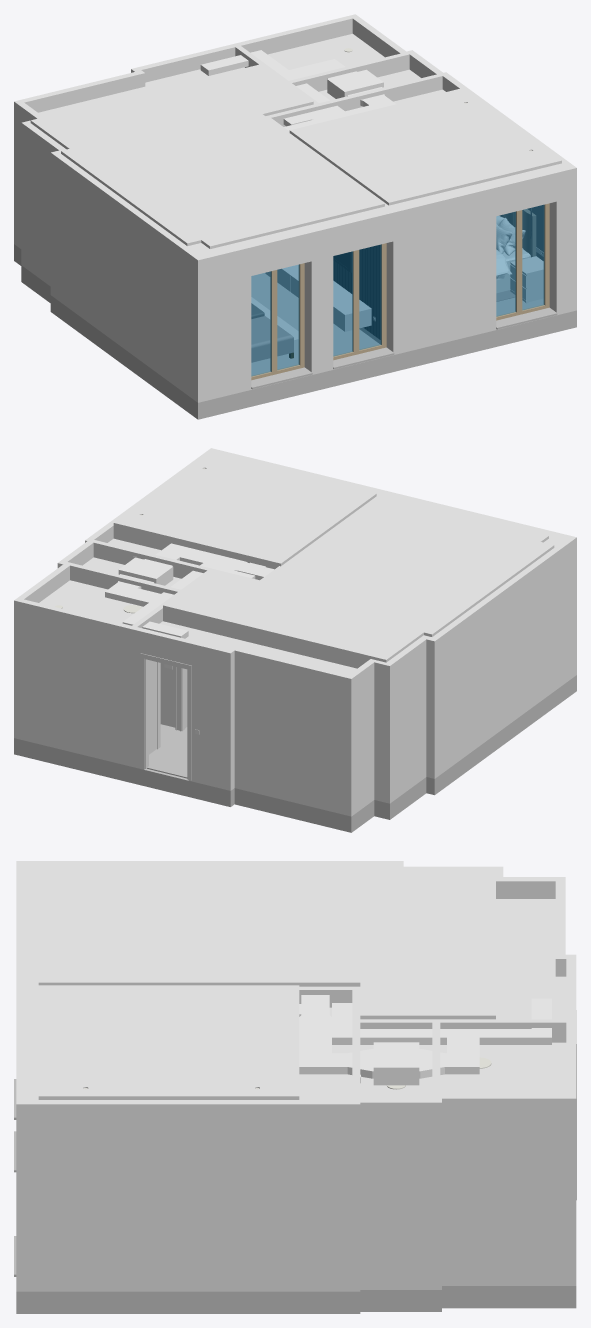
The model's file is Reajustarte_Piso en Sevilla Cristina_02.glb.
3 views of the same model, one above another, from view 1: azimuth 30°, elevation 25°; view 2: azimuth 150°, elevation 25°; view 3: azimuth 270°, elevation 25° (orthographic). The views are drawn at different scales.
Parts seen in each view (by area): view 1: Parte_3, Parte_26, Parte_1, Parte_2, Parte_27, Parte_0, Parte_20, Parte_13, Parte_17, Parte_19; view 2: Parte_3, Parte_1, Parte_2, Parte_0; view 3: Parte_3, Parte_1, Parte_2.
Part boxes in pixels (x1=…): Parte_3: x1=14, y1=14, x2=576, y2=402; Parte_26: x1=251, y1=205, x2=544, y2=376; Parte_1: x1=14, y1=244, x2=576, y2=419; Parte_2: x1=200, y1=50, x2=543, y2=320; Parte_27: x1=251, y1=203, x2=549, y2=380; Parte_0: x1=251, y1=273, x2=557, y2=389; Parte_20: x1=333, y1=245, x2=380, y2=339; Parte_13: x1=265, y1=265, x2=371, y2=331; Parte_17: x1=251, y1=290, x2=515, y2=362; Parte_19: x1=500, y1=209, x2=536, y2=257; Parte_3: x1=14, y1=448, x2=576, y2=816; Parte_1: x1=14, y1=675, x2=576, y2=832; Parte_2: x1=105, y1=543, x2=274, y2=734; Parte_0: x1=147, y1=724, x2=187, y2=778; Parte_3: x1=16, y1=861, x2=576, y2=1291; Parte_1: x1=16, y1=1286, x2=576, y2=1313; Parte_2: x1=299, y1=995, x2=551, y2=1085.
Size of the model in its own units: 7.04 by 2.88 by 6.89.
